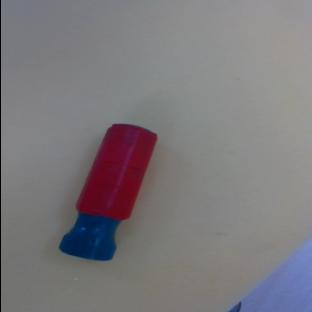part_2_good: (55, 115, 164, 270)
